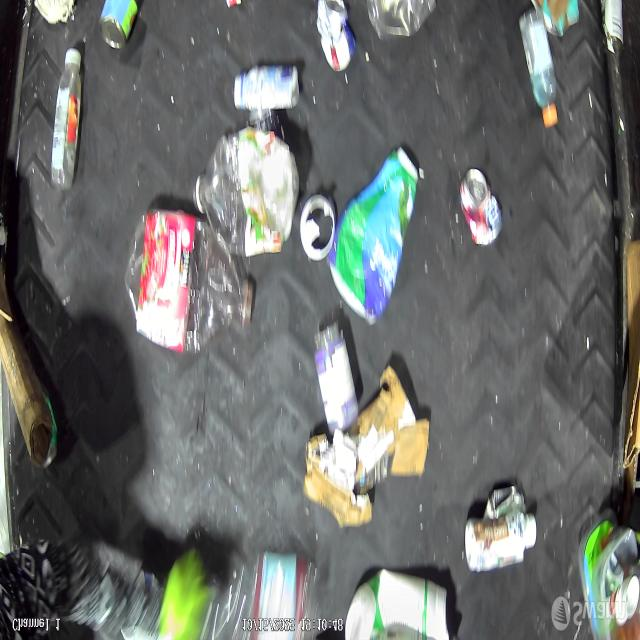can: (458, 167, 504, 249), (316, 0, 358, 75), (299, 190, 339, 262), (96, 0, 140, 54), (602, 0, 624, 58)
non_white_jug: (326, 145, 420, 327), (344, 566, 450, 640)
plastic_bottle: (122, 203, 255, 361), (192, 126, 303, 260), (48, 46, 86, 196), (518, 5, 560, 134)
